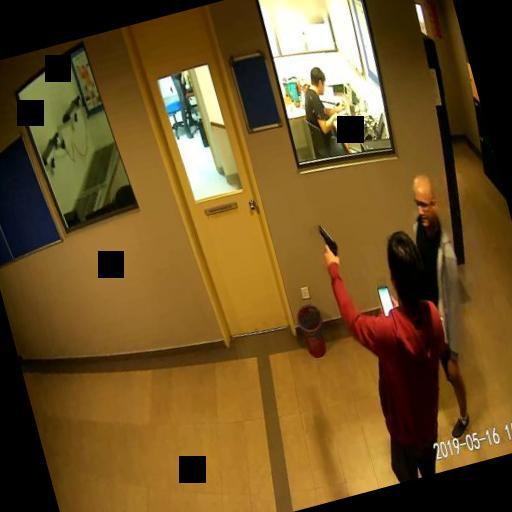Handgun: (314, 220, 338, 261)
